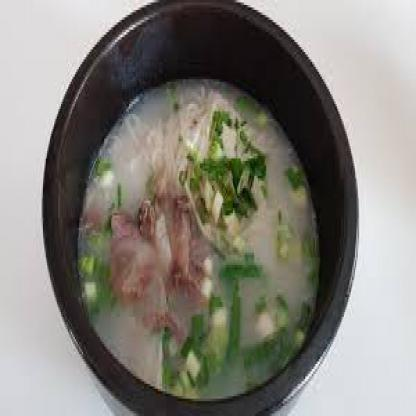beef-bone soup: (78, 72, 324, 391)
